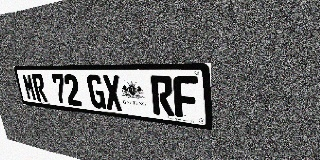2: (63, 74, 82, 106)
7: (51, 74, 69, 105)
F: (173, 76, 199, 120)
G: (86, 75, 107, 109)
M: (21, 74, 37, 101)
R: (150, 76, 175, 117), (31, 74, 48, 102)
X: (102, 75, 123, 111)
